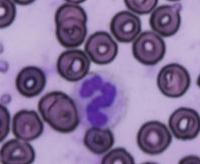N: (71, 70, 128, 130)
